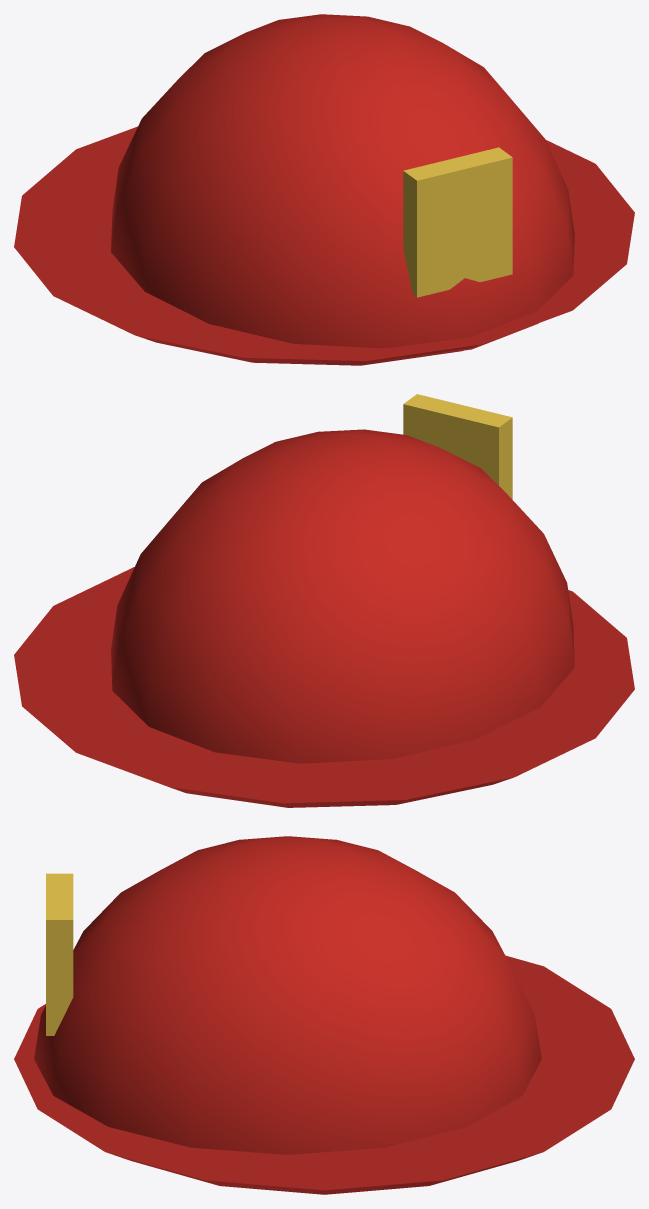
File: helmet.glb
3 views of the same model, one above another, from view 1: azimuth 30°, elevation 25°; view 2: azimuth 150°, elevation 25°; view 3: azimuth 270°, elevation 25° (orthographic).
Parts seen in each view (by area): view 1: helmet; view 2: helmet; view 3: helmet.
Boxes of the visible parts, <box> form: helmet: <box>14,14,634,365</box>; helmet: <box>14,394,634,807</box>; helmet: <box>14,836,634,1194</box>.
Bounding box in the file's own units: 0.34 × 0.135 × 0.34.
